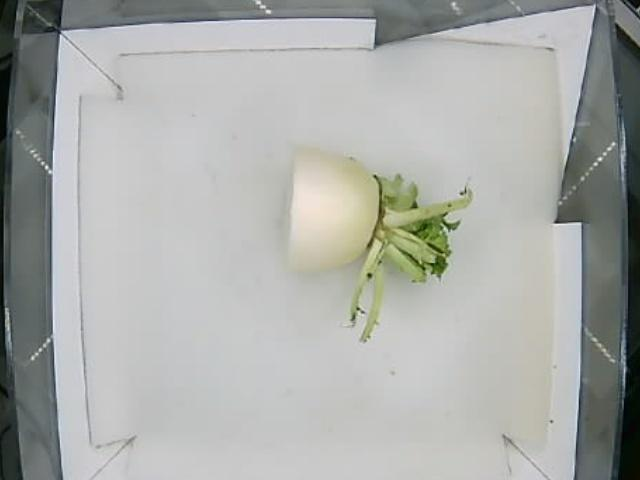Mooli: (285, 149, 463, 300)
